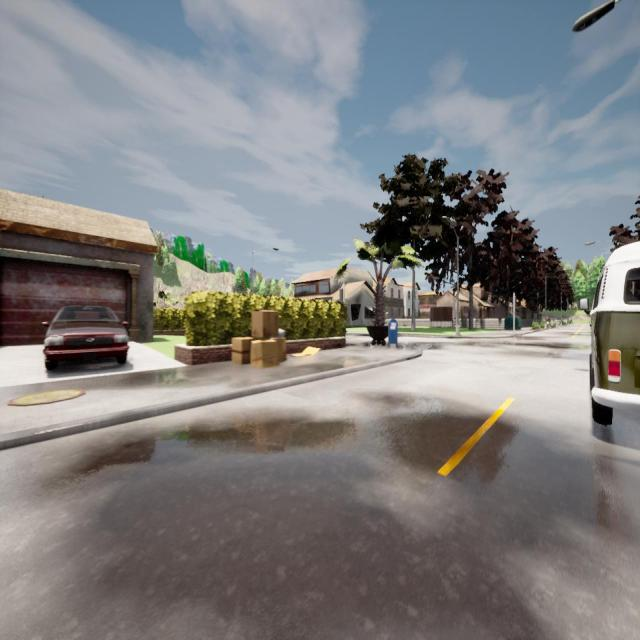Vehicle: (579, 243, 640, 427), (43, 305, 128, 372)
traffic_light: (339, 289, 344, 301)
